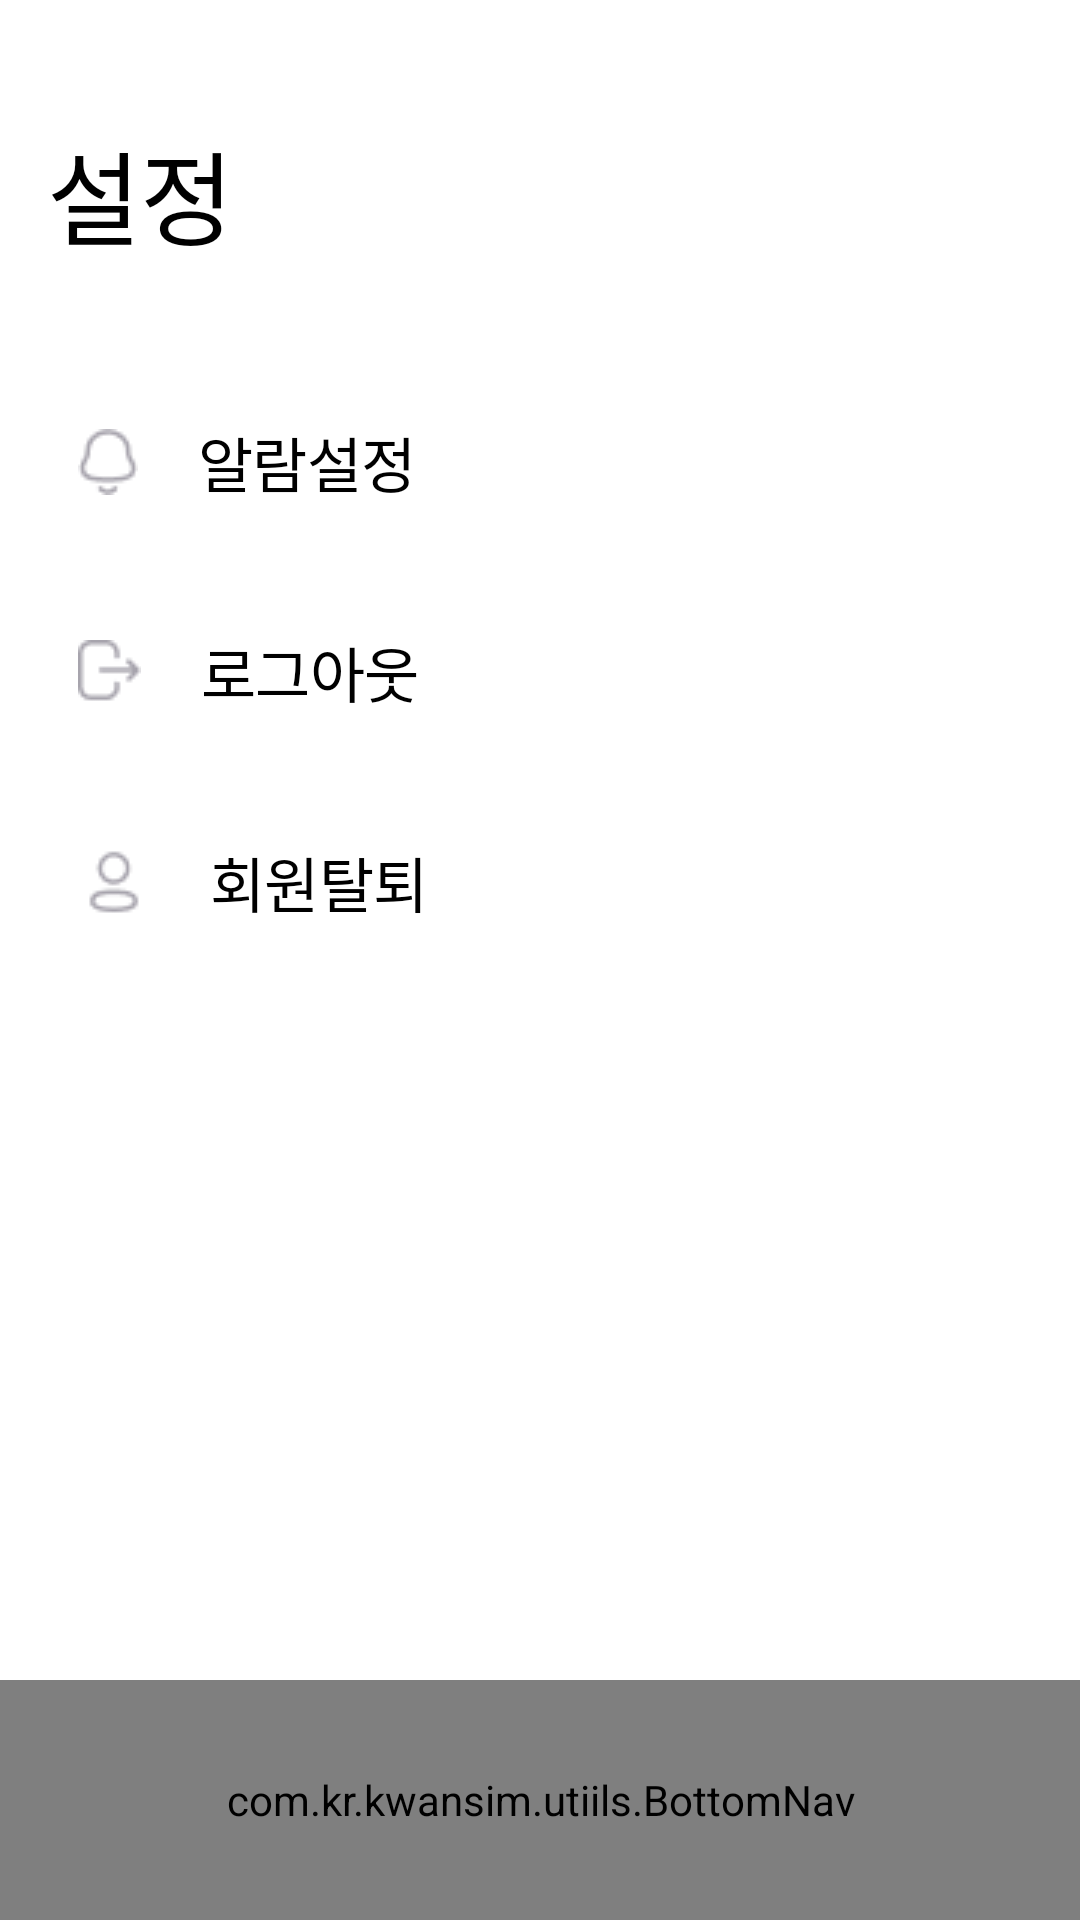

Where icons sit on this 1080 x 1920 app screen, as (x1, y1, x2, y2):
notification: (80, 429, 136, 495)
profile: (89, 851, 139, 913)
